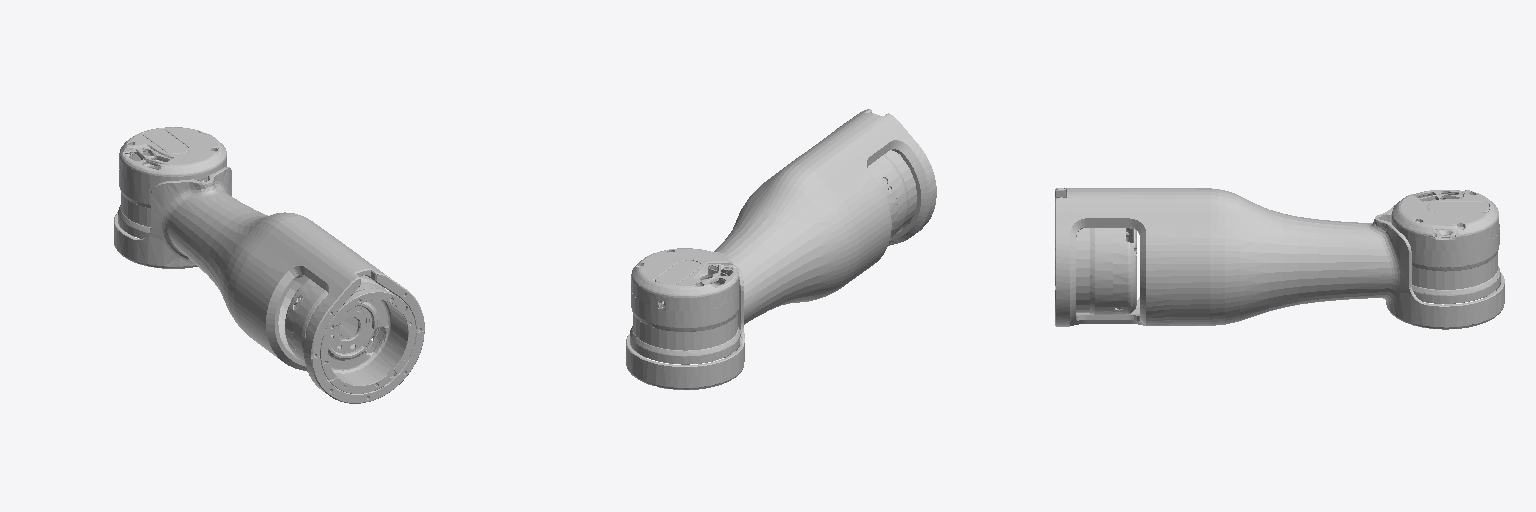
File: right_upper_arm_yaw_link.obj
3 views of the same model, side by side, from view 1: azimuth 30°, elevation 25°; view 2: azimuth 150°, elevation 25°; view 3: azimuth 270°, elevation 25° (orthographic).
Parts seen in each view (by area): view 1: right_upper_arm_yaw_link; view 2: right_upper_arm_yaw_link; view 3: right_upper_arm_yaw_link.
Part boxes in pixels (bbox=[...]): right_upper_arm_yaw_link: bbox=[114, 127, 424, 403]; right_upper_arm_yaw_link: bbox=[626, 109, 936, 389]; right_upper_arm_yaw_link: bbox=[1055, 188, 1504, 329].
Bounding box in the file's own units: 0.062 × 0.0669 × 0.212.